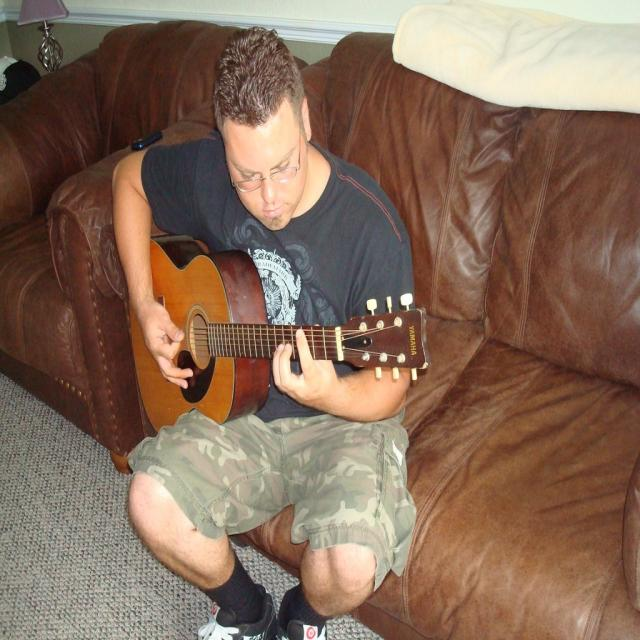guitar: (129, 231, 429, 437)
